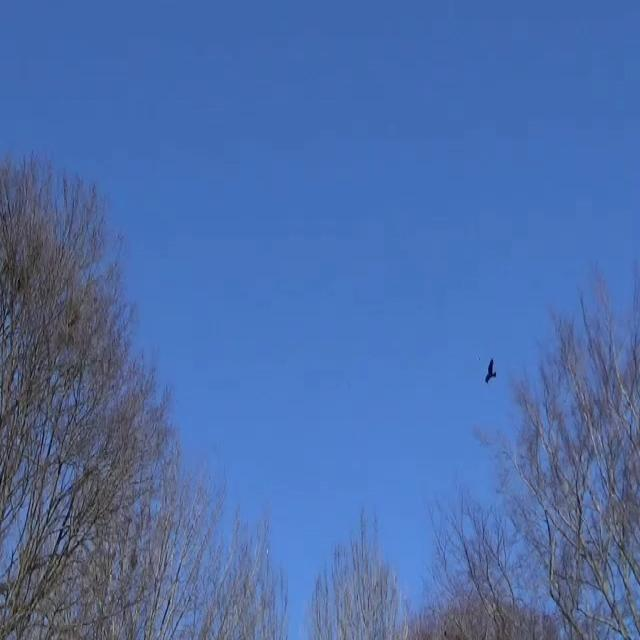bird: (479, 351, 502, 390)
